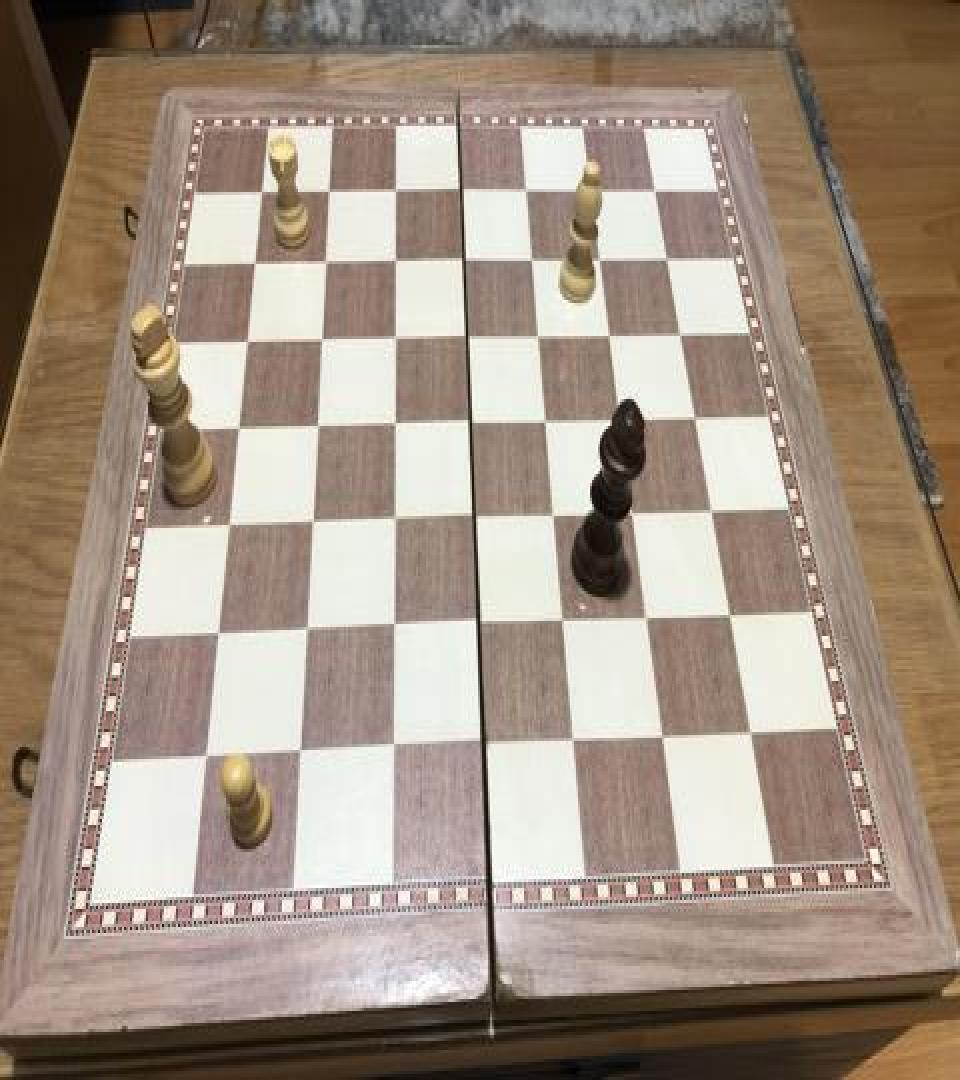xcorner: (295, 610, 319, 647), (651, 712, 675, 749), (562, 718, 586, 755), (381, 727, 405, 764), (289, 733, 313, 770), (642, 168, 666, 204), (578, 168, 602, 204), (514, 170, 538, 206), (449, 170, 473, 206), (384, 171, 408, 207), (654, 236, 678, 272), (587, 237, 611, 273), (520, 238, 544, 274), (452, 240, 476, 276), (384, 240, 408, 276), (314, 242, 338, 278), (244, 243, 268, 279), (667, 310, 691, 346), (598, 312, 622, 348), (527, 315, 551, 351), (456, 316, 480, 352), (383, 318, 407, 354), (310, 320, 334, 356), (237, 321, 261, 357), (682, 394, 706, 430), (609, 396, 633, 432), (534, 399, 558, 435), (459, 400, 483, 436), (383, 404, 407, 440), (306, 406, 330, 442), (228, 408, 252, 444), (699, 488, 723, 524), (621, 490, 645, 526), (543, 494, 567, 530), (463, 496, 487, 532), (382, 500, 406, 536), (301, 502, 325, 538), (218, 506, 242, 542), (718, 591, 742, 627), (635, 594, 659, 630), (552, 598, 576, 634), (467, 603, 491, 639), (382, 606, 406, 642), (207, 615, 231, 651), (739, 708, 763, 744), (472, 723, 496, 759), (195, 738, 219, 774), (318, 173, 342, 208), (251, 173, 275, 208)
